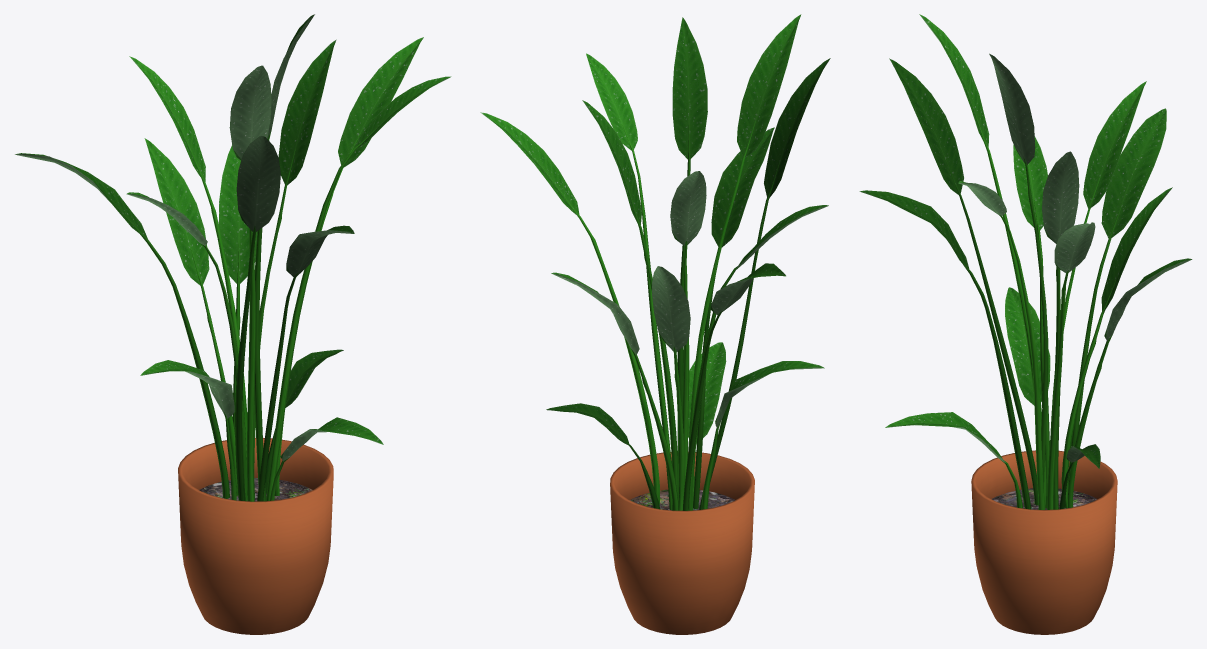
Rendered from Plant.fbx.
3 renders of one model, left to right at view 1: azimuth 30°, elevation 25°; view 2: azimuth 150°, elevation 25°; view 3: azimuth 270°, elevation 25°, orthographic. The views are drawn at different scales.
Parts seen in each view (by area): view 1: Plant; view 2: Plant; view 3: Plant.
Part boxes in pixels (x1,y1,x2,y2): Plant: [15, 14, 451, 634]; Plant: [480, 14, 830, 634]; Plant: [859, 14, 1192, 634].
Size of the model in its own units: 87.51 by 138 by 73.
Materials: 1 (1 with a texture image).
